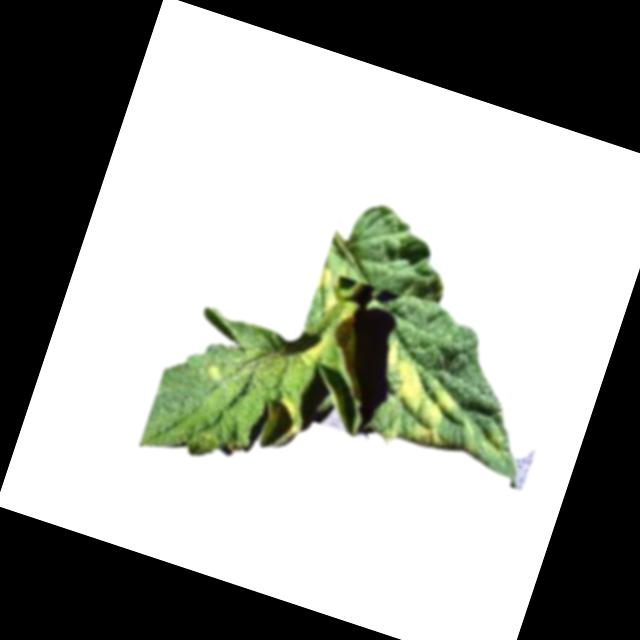Leaf_Mold: (361, 331, 474, 456), (293, 266, 391, 382), (273, 391, 307, 424)
